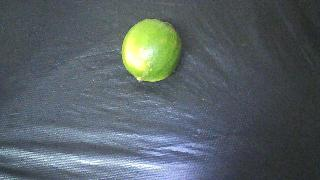LOCAL: (121, 19, 182, 82)
